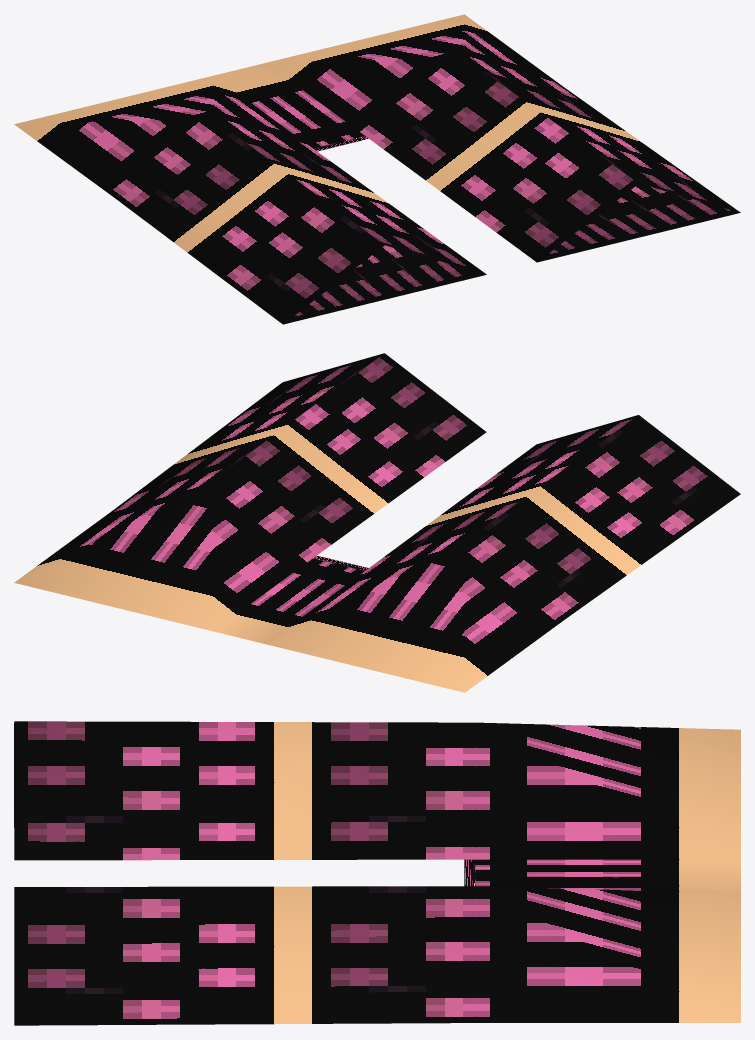
The model's file is 5831pants000_c.gltf.
3 renders of one model, top to bottom at view 1: azimuth 30°, elevation 25°; view 2: azimuth 150°, elevation 25°; view 3: azimuth 270°, elevation 25°, orthographic. The views are drawn at different scales.
Visible parts, largest first — view 1: 5831pants000_c; view 2: 5831pants000_c; view 3: 5831pants000_c.
Boxes of the visible parts, x1=… form: 5831pants000_c: x1=14, y1=14, x2=740, y2=324; 5831pants000_c: x1=14, y1=353, x2=740, y2=692; 5831pants000_c: x1=14, y1=721, x2=740, y2=1025.
Bounding box in the file's own units: 0.7793 × 0.0884 × 0.803.
1 material, 1 textured.
